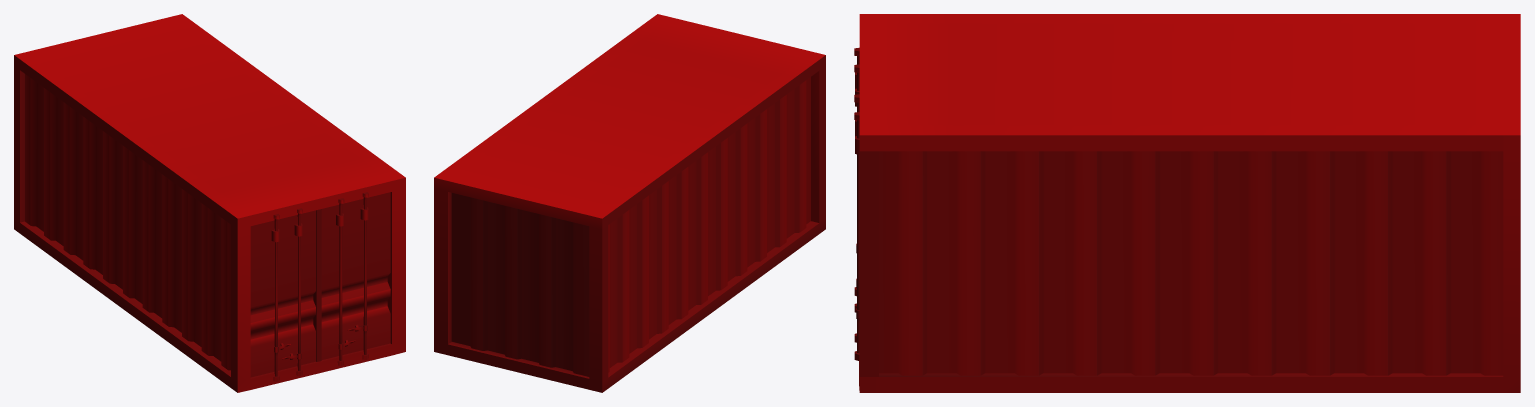
File: ShippingContainer.glb
The picture shows the model from 3 angles, left to right: view 1: azimuth 30°, elevation 25°; view 2: azimuth 150°, elevation 25°; view 3: azimuth 270°, elevation 25°; orthographic projection. The views are drawn at different scales.
Parts seen in each view (by area): view 1: ShippingContainer; view 2: ShippingContainer; view 3: ShippingContainer.
Boxes of the visible parts, box(x1,y1,x2,y2) form: ShippingContainer: box(14, 14, 405, 392); ShippingContainer: box(434, 14, 825, 392); ShippingContainer: box(854, 14, 1520, 392).
Size of the model in its own units: 22.47 by 22.24 by 52.1.
